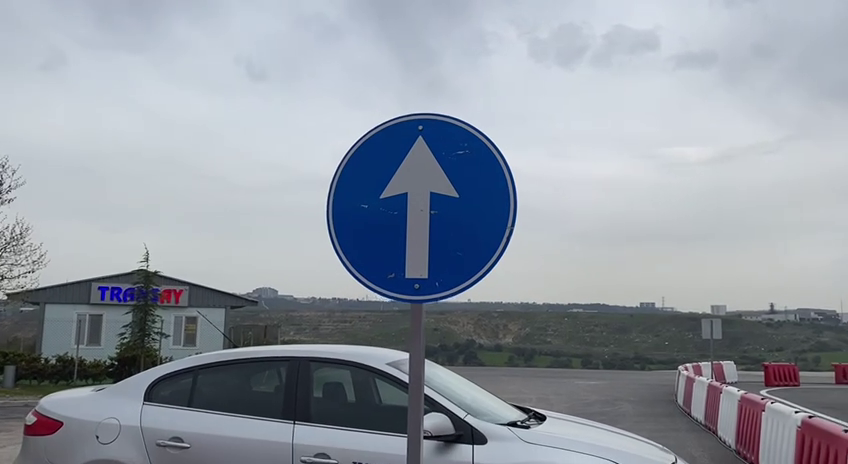forward: (321, 104, 524, 311)
